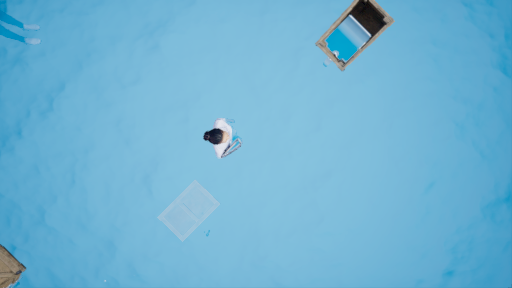person: (198, 110, 244, 156)
